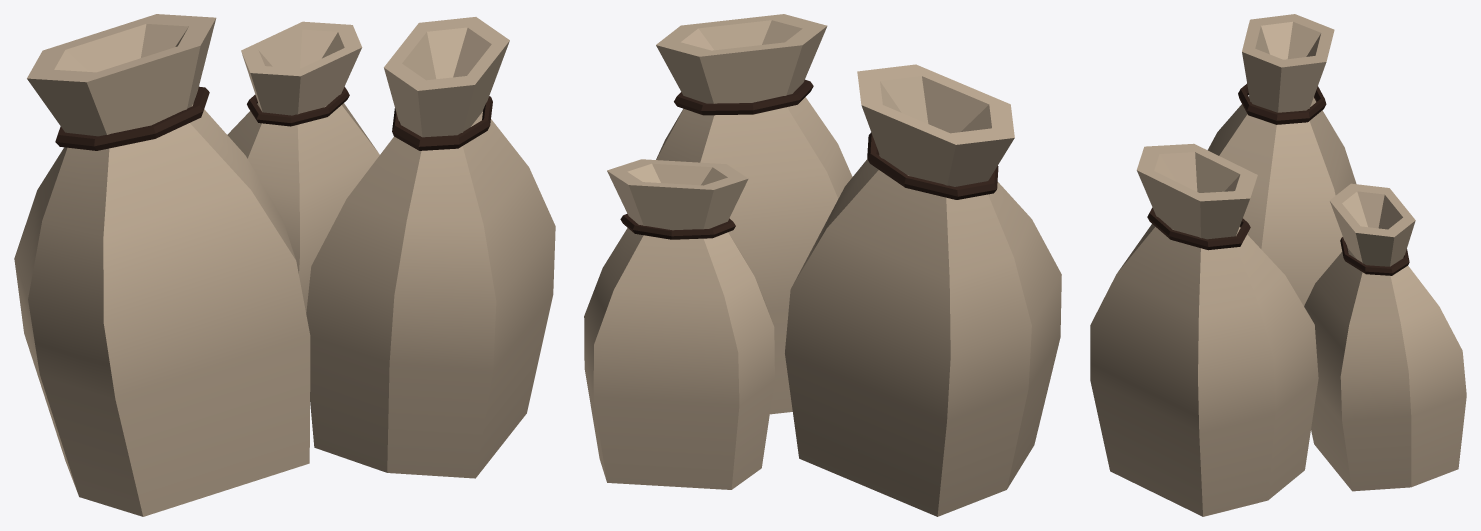
File: Saco_3.fbx
3 views of the same model, side by side, from view 1: azimuth 30°, elevation 25°; view 2: azimuth 150°, elevation 25°; view 3: azimuth 270°, elevation 25° (orthographic). The views are drawn at different scales.
Visible parts, largest first — view 1: Saco_3; view 2: Saco_3; view 3: Saco_3.
Part boxes in pixels (x1,y1,x2,y2): Saco_3: [14, 14, 555, 516]; Saco_3: [584, 14, 1061, 516]; Saco_3: [1090, 14, 1466, 516].
Size of the model in its own units: 1.7 by 1.48 by 1.42.
